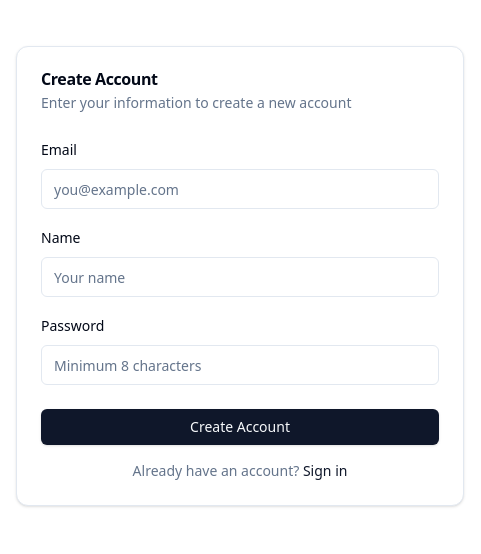
Test: RegisterPage - form interactions › error handling › should clear previous error on new submission
Type "test@example.com" into the field with placeholder "you@example.com" at coordinates (240, 189), box [41, 169, 439, 209]
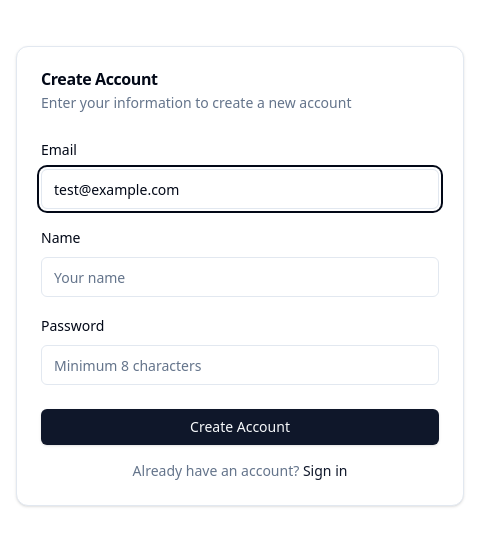
Type "Test User" into the field with placeholder "Your name" at coordinates (240, 277), box [41, 257, 439, 297]
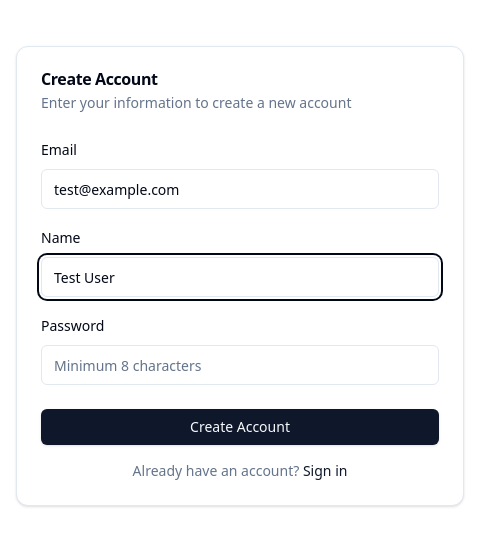
Type "Password123!" into the password field with placeholder "Minimum 8 characters" at coordinates (240, 365), box [41, 345, 439, 385]
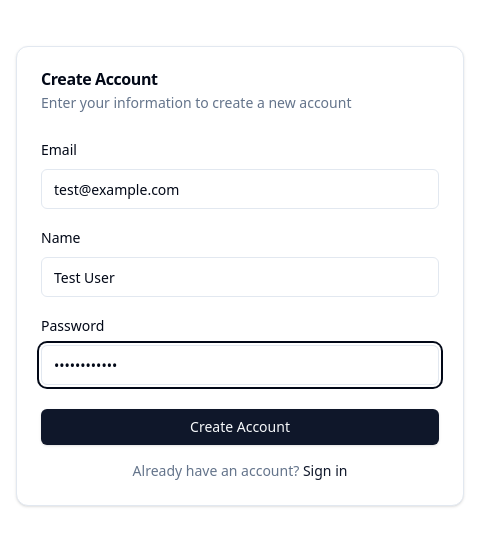
Click the submit button at coordinates (240, 427), box [41, 409, 439, 445]
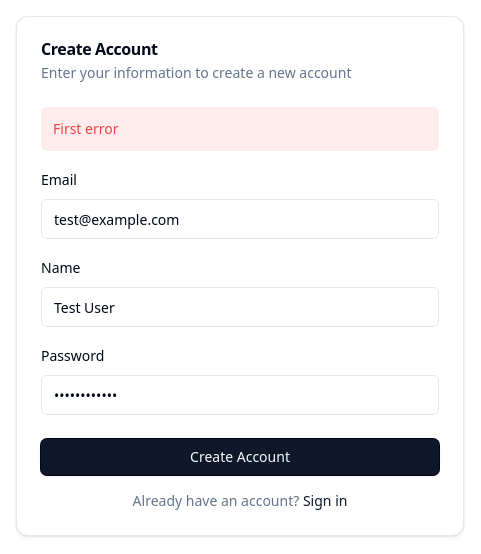
Expected: the text "First error" is shown, [41, 107, 439, 151]
Click the submit button at coordinates (240, 457), box [41, 439, 439, 475]
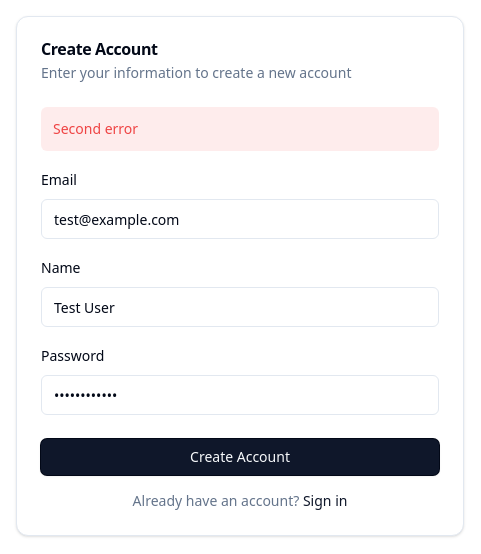
Expected: the text "Second error" is shown, [41, 107, 439, 151]
Expected: the text "First error" is gone
